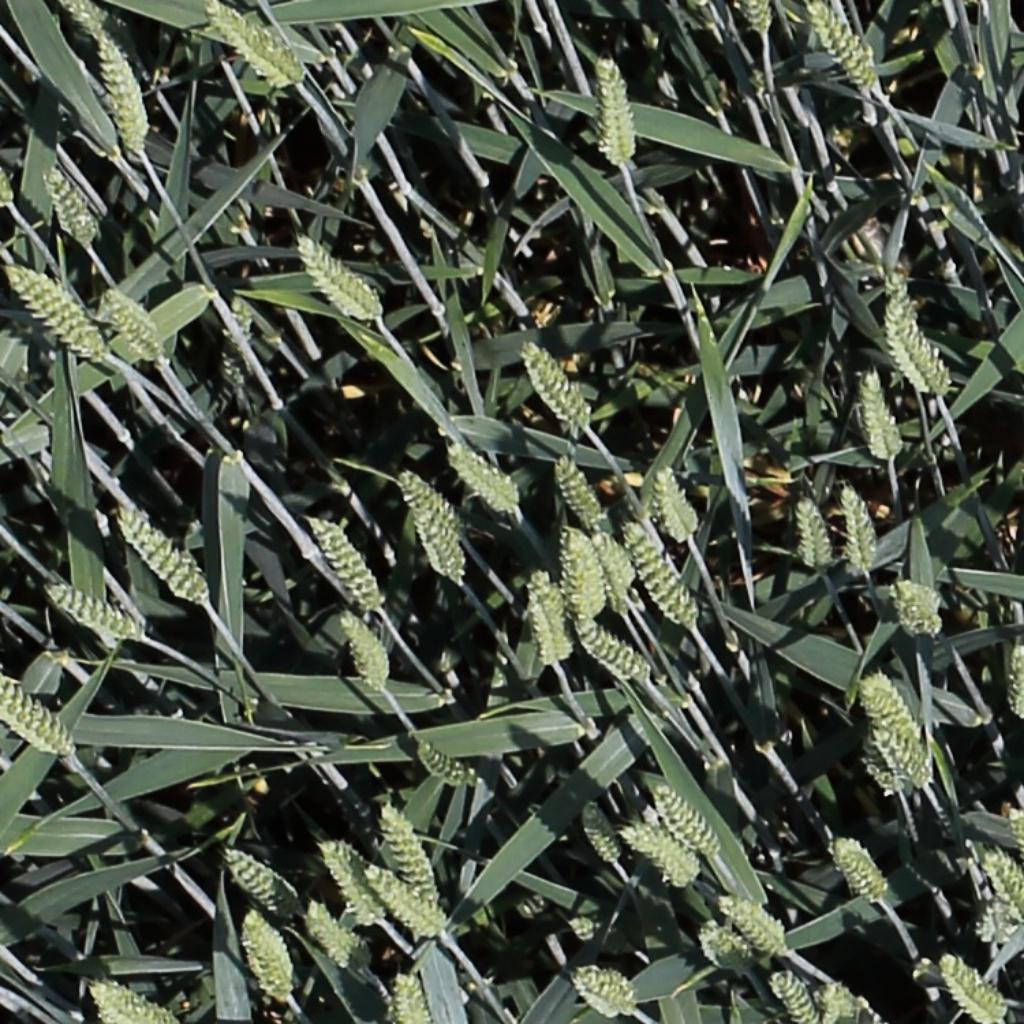0-0: (5, 262, 106, 359), (114, 503, 208, 607), (622, 516, 699, 630), (308, 513, 385, 617), (207, 2, 300, 86), (296, 232, 382, 320), (376, 801, 443, 910), (808, 0, 884, 95), (863, 671, 928, 781), (891, 286, 953, 400), (520, 338, 595, 431), (0, 666, 75, 759), (594, 50, 644, 176), (221, 846, 299, 925), (319, 838, 383, 932), (365, 865, 445, 940), (45, 584, 143, 641), (653, 783, 724, 860), (558, 521, 610, 626), (98, 283, 167, 361), (408, 495, 465, 588), (241, 907, 296, 1003), (890, 280, 932, 404), (552, 447, 610, 535), (447, 443, 520, 512), (398, 468, 466, 542), (338, 607, 393, 697), (939, 953, 1010, 1022), (576, 621, 652, 684), (40, 162, 95, 248), (727, 891, 802, 952), (88, 977, 185, 1024), (622, 828, 700, 886), (832, 836, 892, 910), (304, 897, 360, 974), (862, 364, 905, 464), (972, 836, 1024, 915), (588, 525, 638, 604), (655, 460, 699, 548), (528, 570, 566, 671), (841, 480, 879, 578), (580, 798, 628, 875), (217, 300, 258, 387), (560, 909, 637, 955), (793, 494, 835, 574), (858, 733, 910, 796), (53, 0, 120, 48), (770, 966, 821, 1024), (416, 741, 475, 790), (892, 585, 943, 641), (965, 893, 1013, 945), (701, 924, 755, 968), (390, 972, 433, 1024), (1004, 637, 1024, 723), (821, 980, 857, 1022), (746, 0, 775, 42), (1004, 801, 1024, 850), (0, 166, 19, 208)
